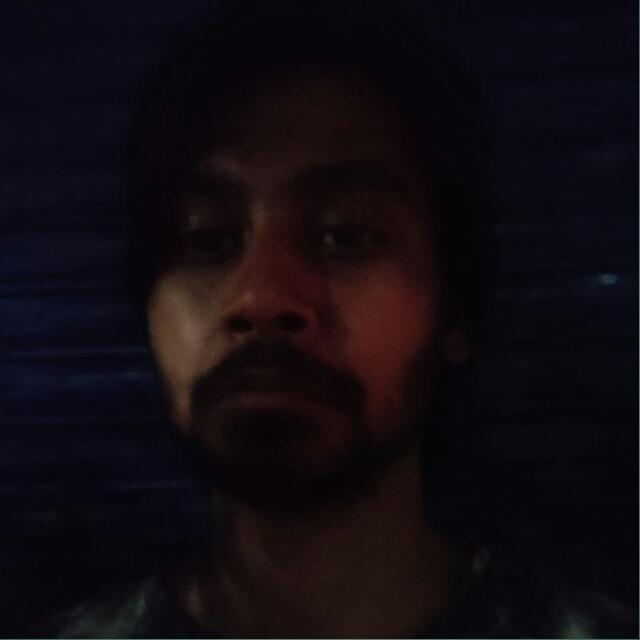Sad: (133, 57, 470, 513)
